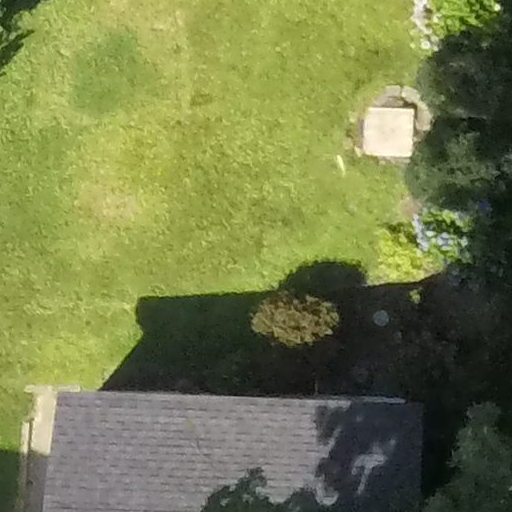stone pond: (338, 67, 438, 165)
